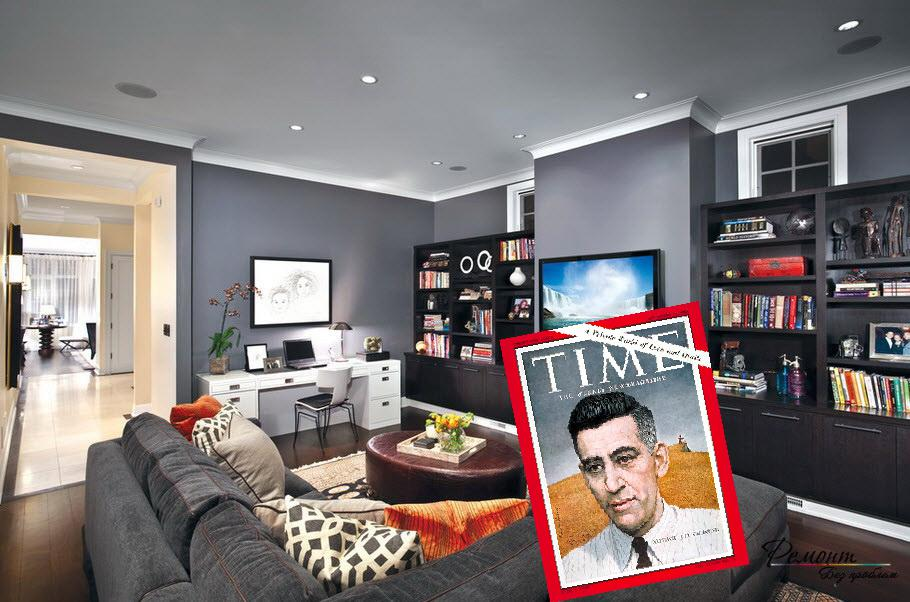times: (497, 300, 751, 602)
